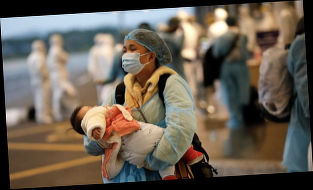with_mask: (122, 42, 148, 75)
